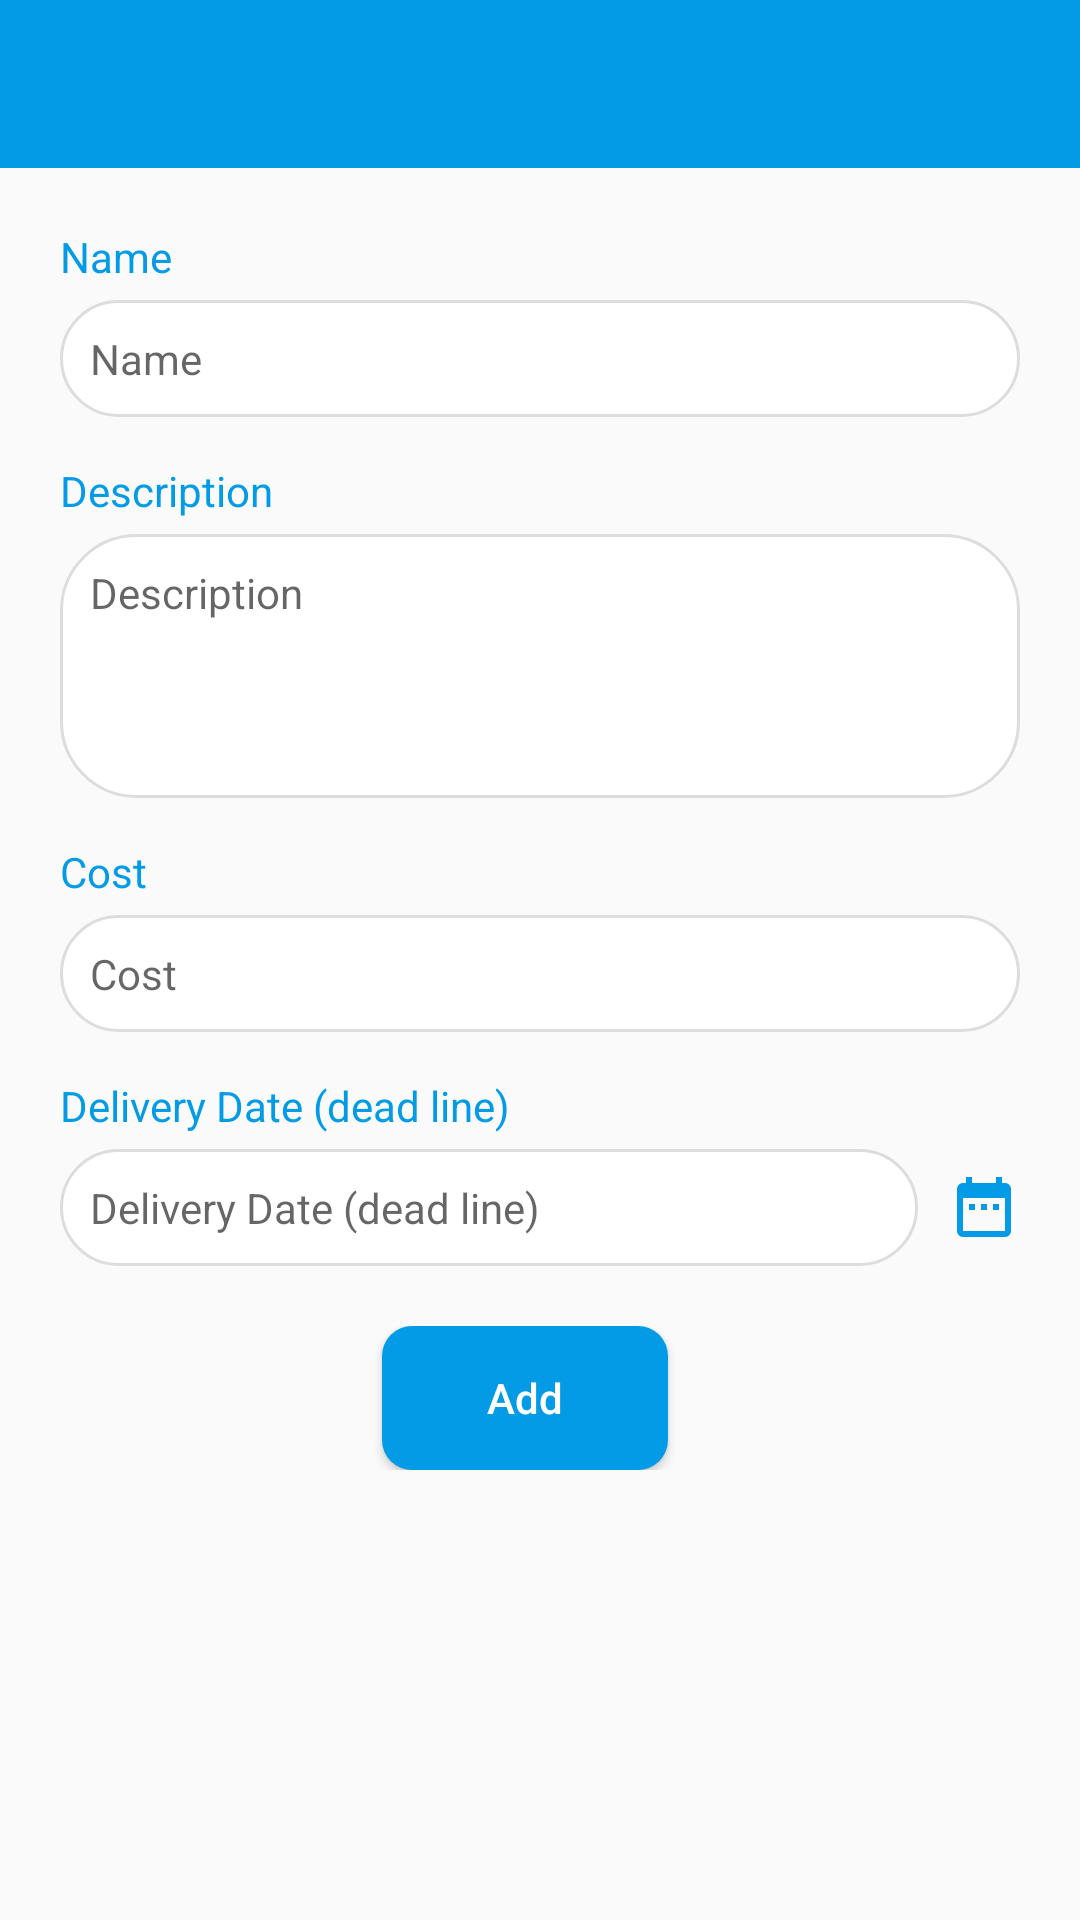

Where icons sit on this 1080×1920 app screen, as (x1, y1, x2, y2):
set date: (957, 1177, 1011, 1237)
